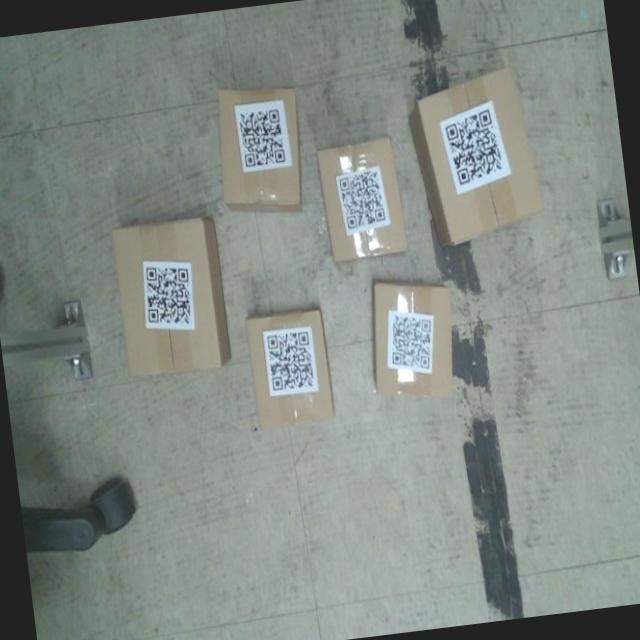box: (408, 61, 552, 252), (106, 212, 234, 380), (206, 76, 314, 222), (360, 270, 467, 406), (316, 133, 410, 265), (242, 306, 340, 431)
